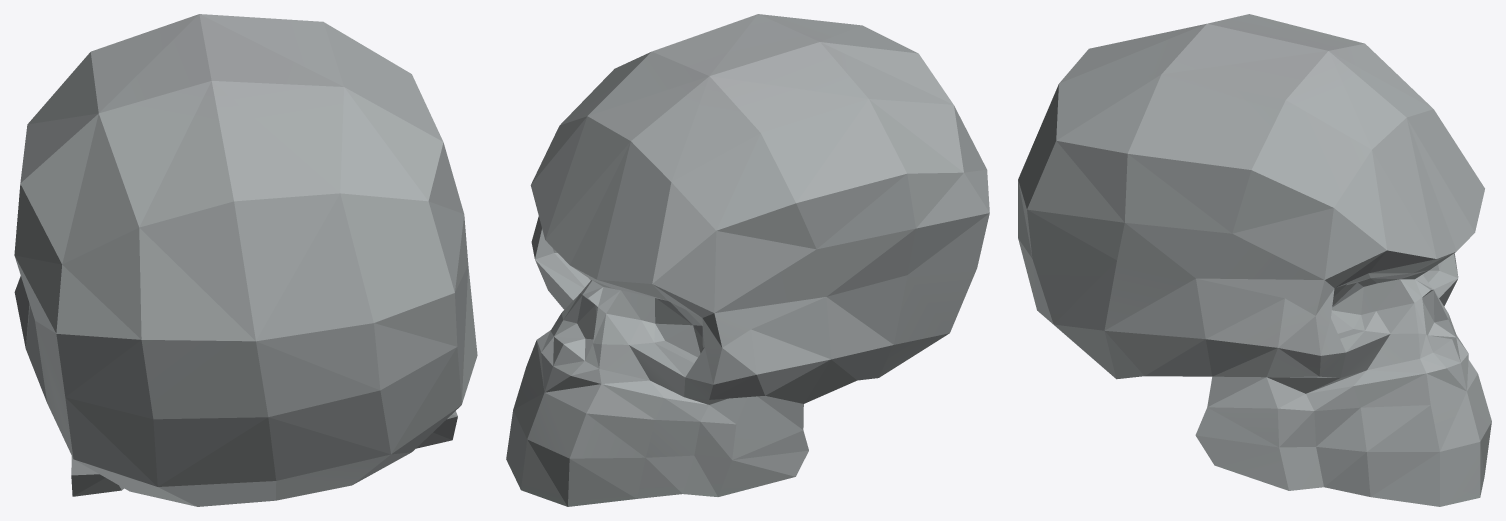
Rendered from trinketSkull1.fbx.
The picture shows the model from 3 angles, left to right: view 1: azimuth 30°, elevation 25°; view 2: azimuth 150°, elevation 25°; view 3: azimuth 270°, elevation 25°; orthographic projection. The views are drawn at different scales.
Visible parts, largest first — view 1: trinketSkull1; view 2: trinketSkull1; view 3: trinketSkull1.
Boxes of the visible parts, x1,y1,x2,y2 form: trinketSkull1: [14, 14, 477, 506]; trinketSkull1: [506, 14, 989, 506]; trinketSkull1: [1018, 14, 1491, 506].
Size of the model in its own units: 1.26 by 1.24 by 1.34.
Materials: 1 (1 with a texture image).
